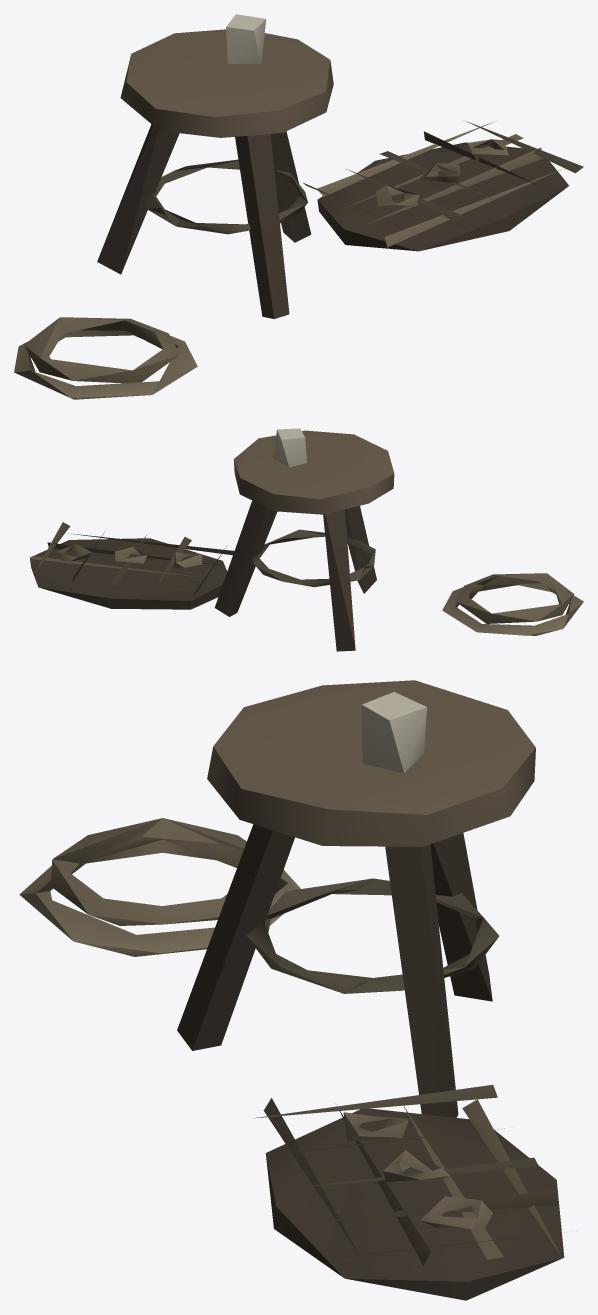
Rendered from mender_stool_a_lod2.glb.
3 renders of one model, top to bottom at view 1: azimuth 30°, elevation 25°; view 2: azimuth 150°, elevation 25°; view 3: azimuth 270°, elevation 25°, orthographic. The views are drawn at different scales.
Visible parts, largest first — view 1: Surface.001; view 2: Surface.001; view 3: Surface.001.
Part boxes in pixels (box(x1,y1,x2,y2)): Surface.001: box(14, 14, 583, 399); Surface.001: box(30, 428, 583, 651); Surface.001: box(19, 680, 564, 1300).
Size of the model in its own units: 2.56 by 0.9678 by 1.33.
